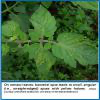Tomato leaf bacterial spot: (52, 31, 98, 68), (29, 5, 60, 41), (26, 42, 56, 75), (2, 20, 23, 39)
